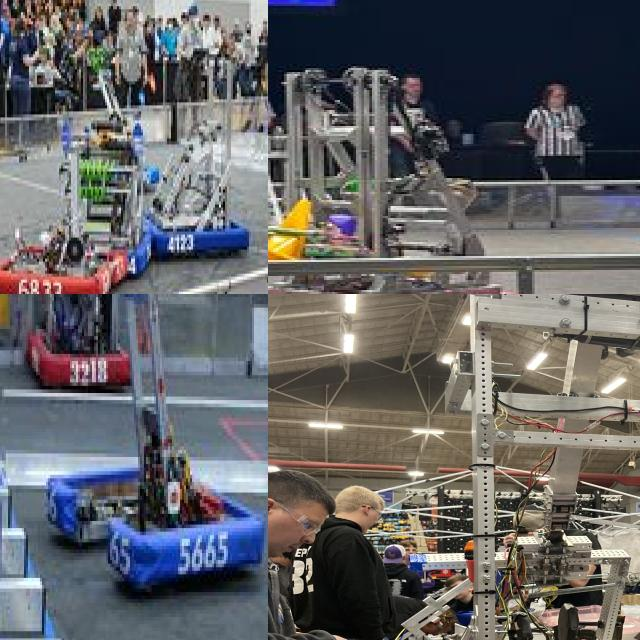FRC-Robots: (283, 294, 640, 640), (0, 294, 268, 618), (268, 49, 568, 294), (50, 98, 160, 276), (159, 136, 268, 262), (29, 294, 137, 394), (14, 230, 114, 294)
